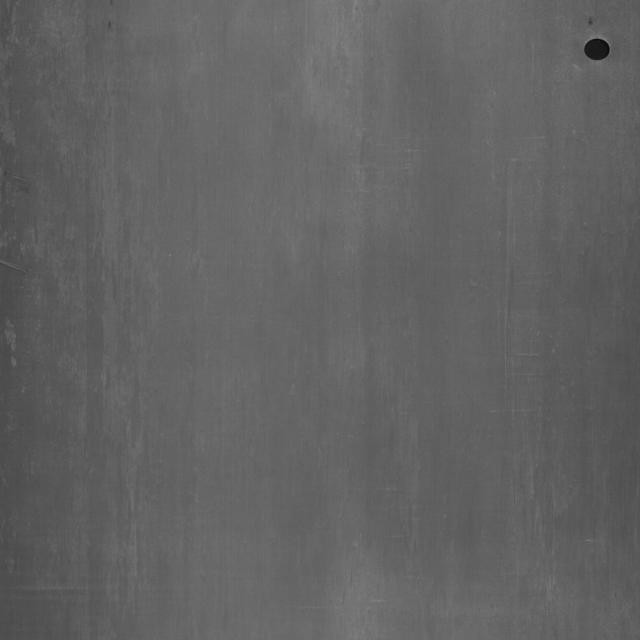crescent_gap: (580, 34, 614, 66)
